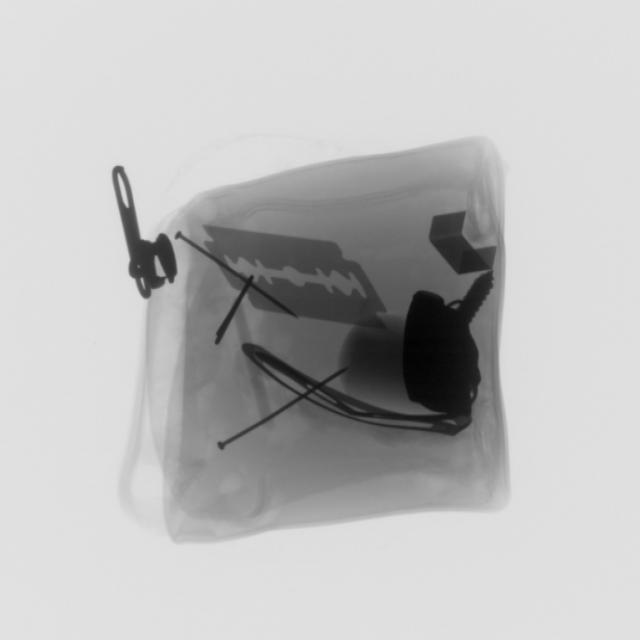BLADE: (184, 217, 400, 338)
